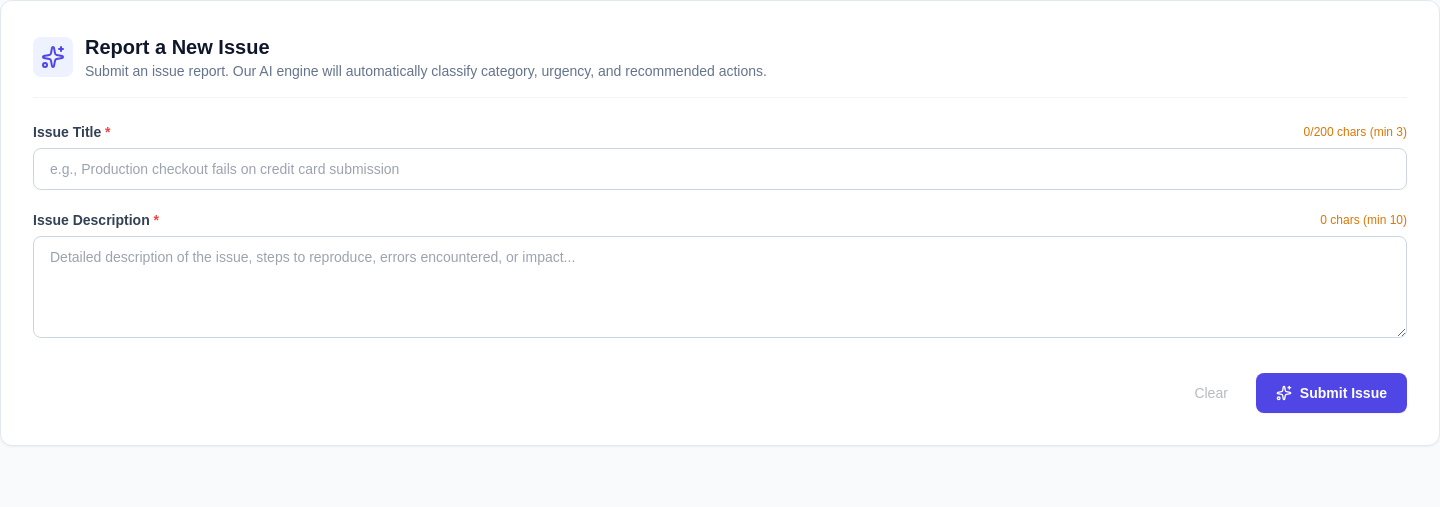
Scenario: IssueForm Component › shows client-side validation errors when submitting empty inputs
What coordinates should you click on to do the following:
click the button with test id "submit-issue-button"
I would click on:
 (1331, 393)
Its box is x1=1256 y1=373 x2=1407 y2=413.
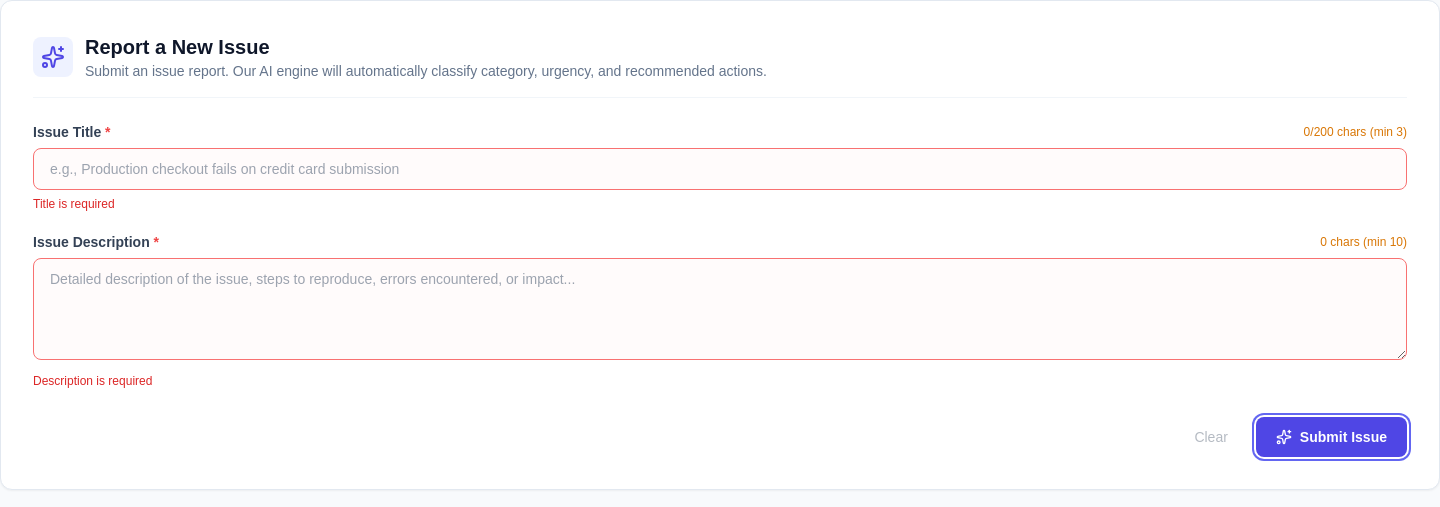
Check: the text "Title is required" is shown, box x1=33 y1=197 x2=115 y2=211
Check: the text "Description is required" is shown, box x1=33 y1=374 x2=152 y2=388
